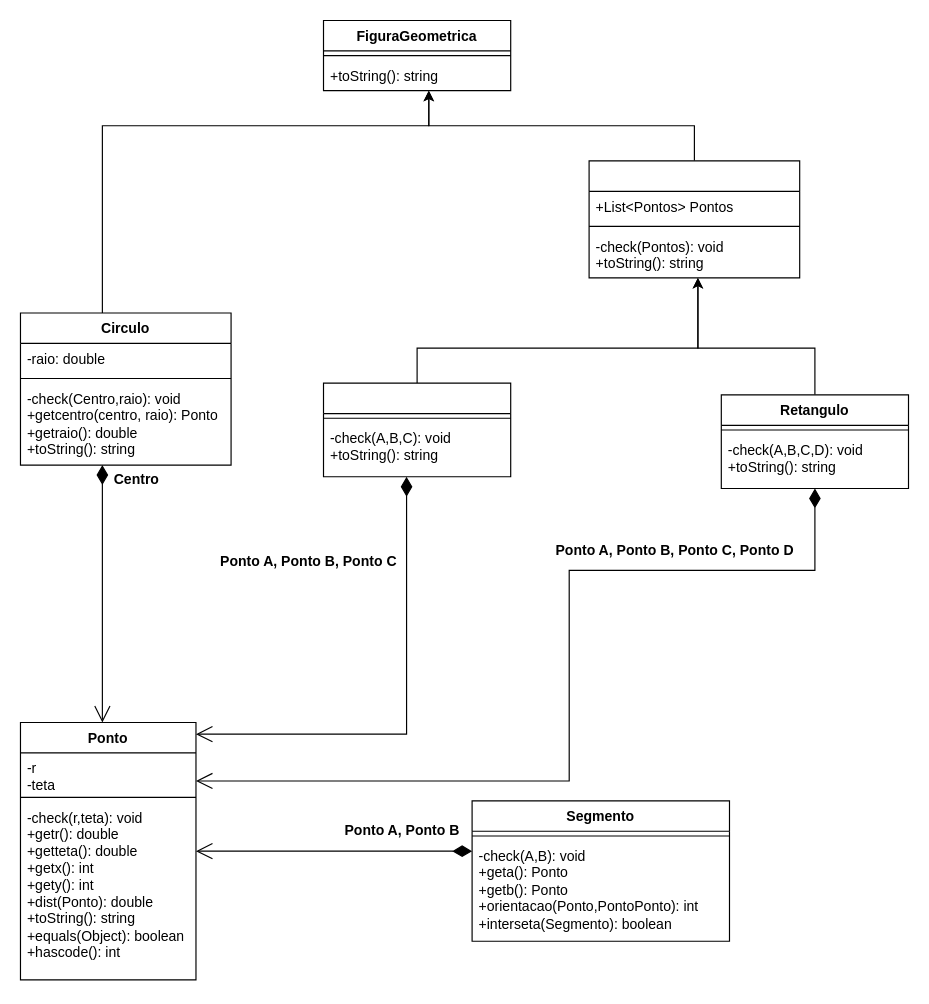
Some shapes in this 929 by 1004 pixel diagram are drawn without their labels. Here are the shapes that lost their labels. From the top down, the box of each, then its label:
(588, 160, 800, 278): Poligono
(322, 382, 511, 477): Triangulo
